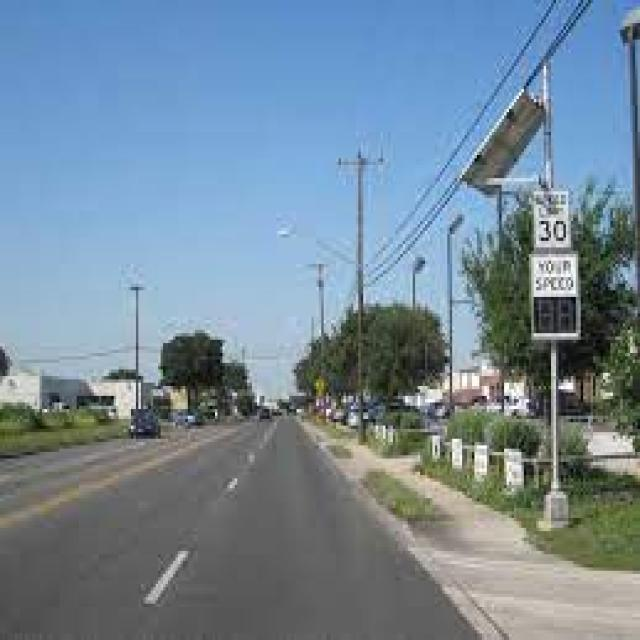speedLimit30: (532, 191, 570, 251)
